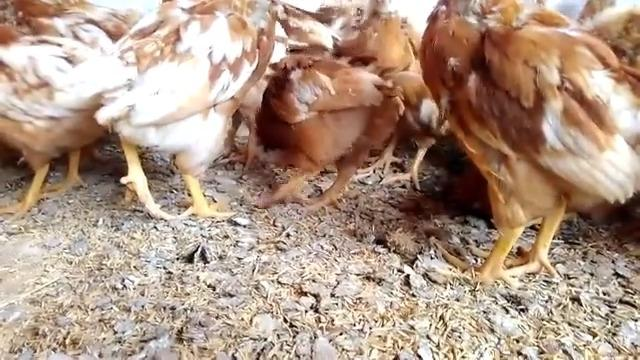Normal: (427, 1, 637, 285)
